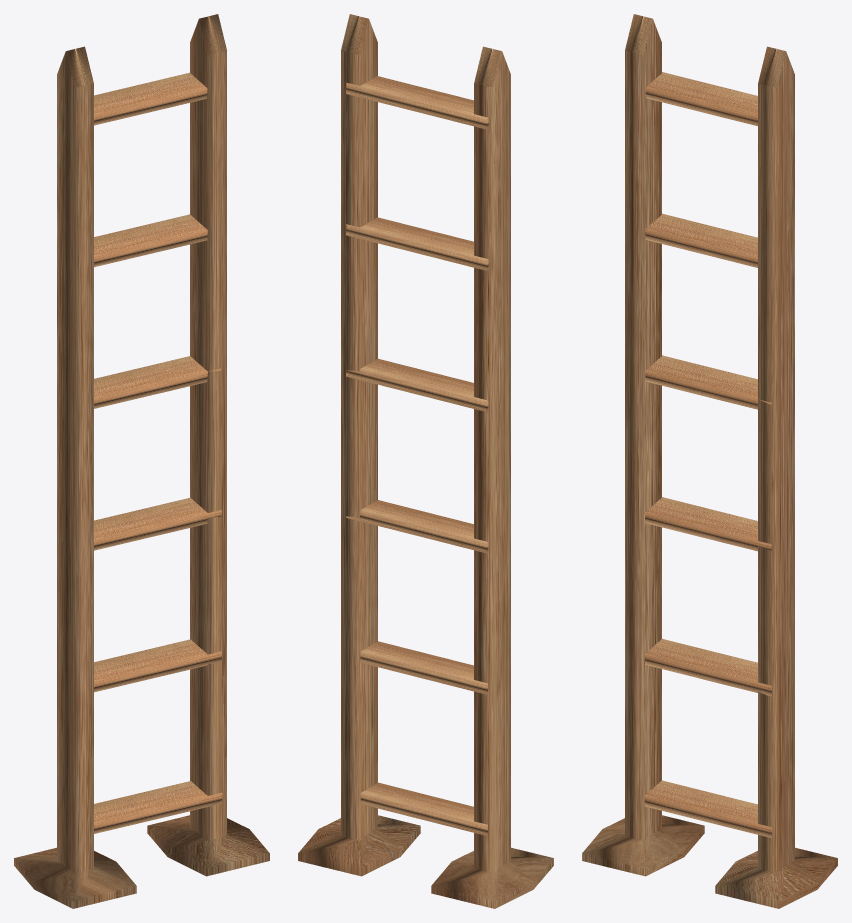
File: ladder.glb
The picture shows the model from 3 angles, left to right: view 1: azimuth 30°, elevation 25°; view 2: azimuth 150°, elevation 25°; view 3: azimuth 330°, elevation 25°; orthographic projection.
Visible parts, largest first — view 1: Cube.002, Cube, Cube.001; view 2: Cube.002, Cube, Cube.001; view 3: Cube, Cube.002, Cube.001.
Part boxes in pixels (x1,y1,x2,y2): Cube.002: (14, 46, 136, 908); Cube: (147, 14, 269, 876); Cube.001: (94, 72, 222, 833); Cube.002: (431, 46, 553, 908); Cube: (298, 14, 420, 876); Cube.001: (346, 76, 488, 835); Cube: (715, 46, 837, 908); Cube.002: (582, 14, 704, 876); Cube.001: (644, 72, 771, 838).
Bounding box in the file's own units: 2.32 × 8.64 × 1.1.
Materials: 1 (1 with a texture image).
